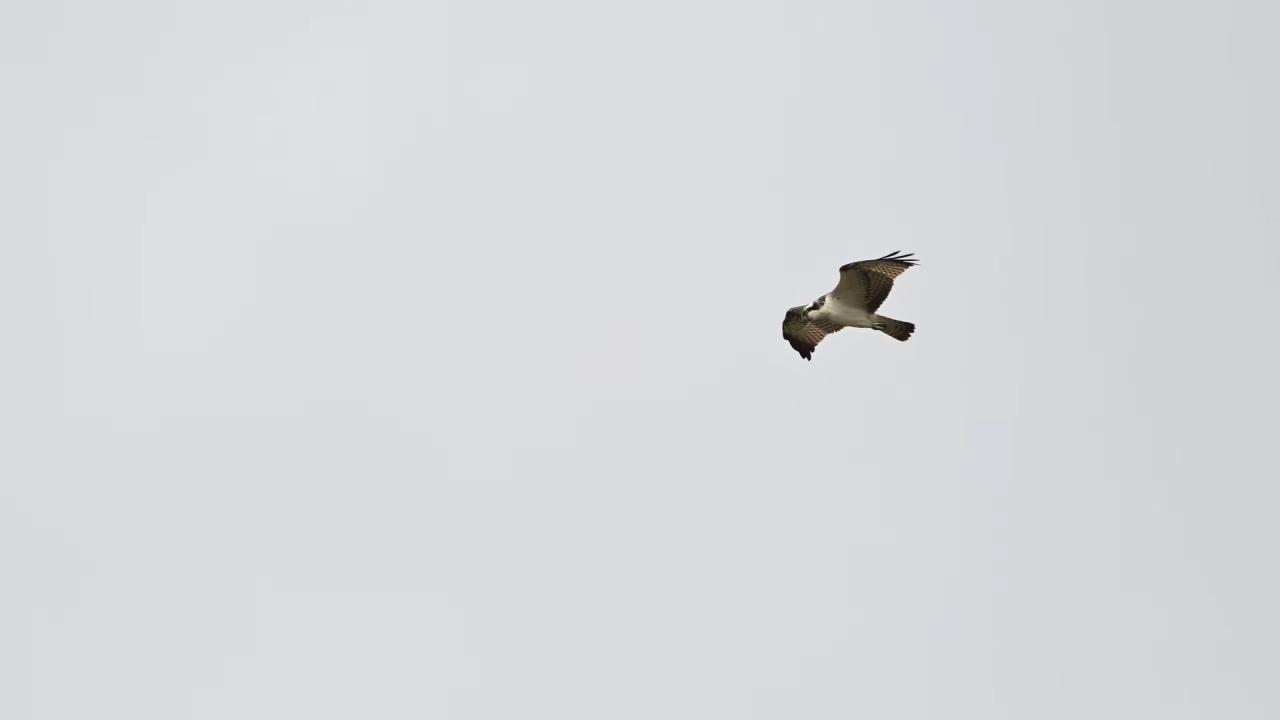Bird: (754, 239, 942, 376)
